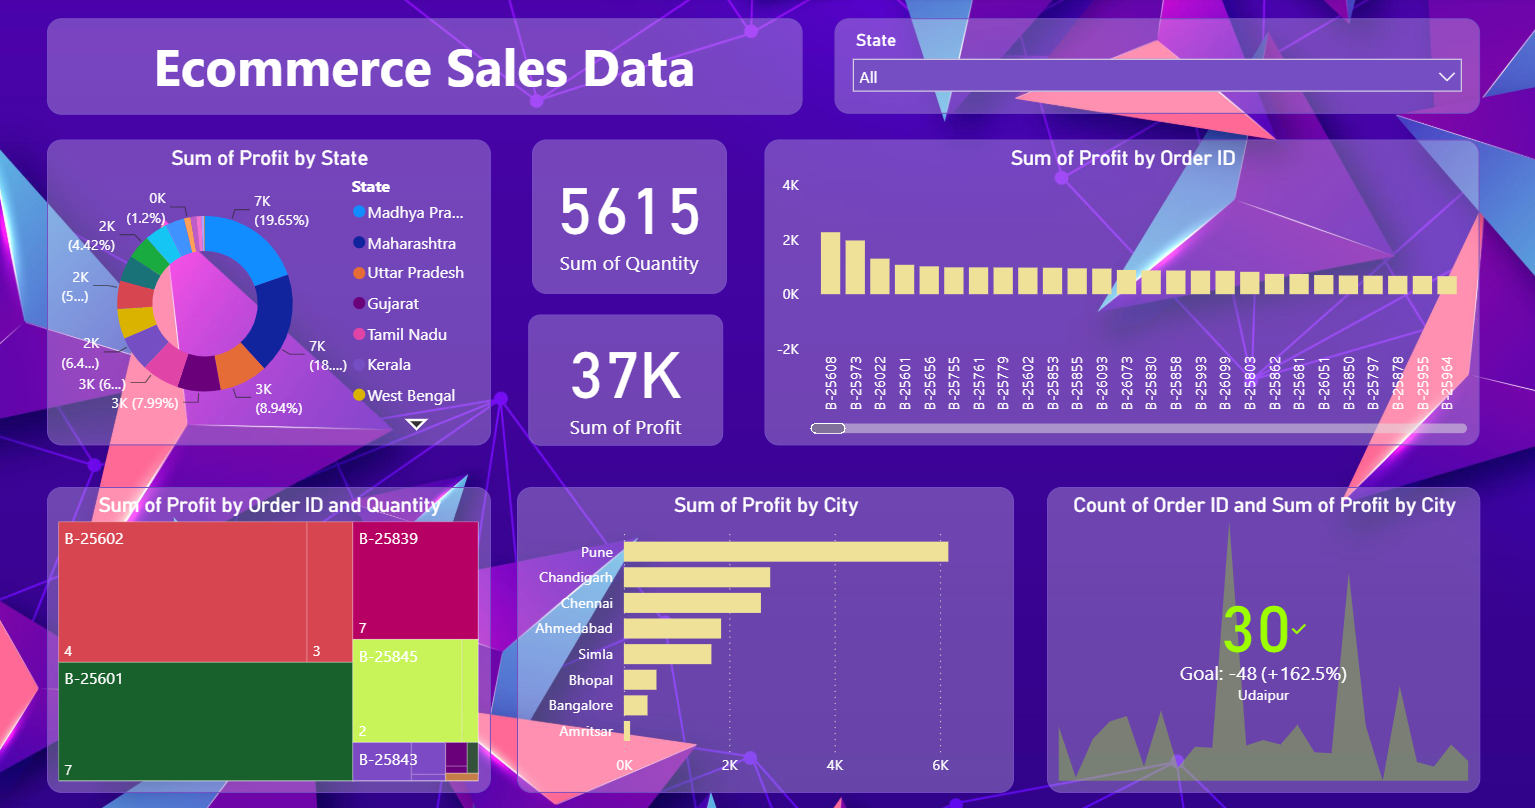

This screenshot's page, from the dashboard's own definition file:
{"tool":"powerbi","page":{"name":"Page 1","canvas":[1280,720],"ordinal":0},"visuals":[{"type":"textbox","box":[41,18.1,626.1,79.6],"z":0},{"type":"columnChart","fields":{"Category":["Sheet1.Order ID"],"Y":["Sum(Sheet1 (2).Profit)"]},"box":[636.7,118,592.8,253.9],"z":1000},{"type":"kpi","fields":{"TrendLine":["Sheet1.City"],"Indicator":["CountNonNull(Sheet1 (2).Order ID)"],"Goal":["Sum(Sheet1 (2).Profit)"]},"box":[870,406.2,359.5,253.9],"z":2000},{"type":"donutChart","fields":{"Category":["Sheet1.State"],"Y":["Sum(Sheet1 (2).Profit)"]},"box":[41.2,118,367.8,253.9],"z":3000},{"type":"barChart","fields":{"Category":["Sheet1.City"],"Y":["Sum(Sheet1 (2).Profit)"]},"box":[430.9,406.2,411.7,253.9],"z":4000},{"type":"pieChart","fields":{"Category":["Sheet1.Order ID"],"Y":["Sum(Sheet1 (2).Profit)"],"Series":["Sheet1 (2).Quantity"]},"box":[41.2,406.2,367.8,253.9],"z":5000},{"type":"slicer","fields":{"Values":["Sheet1.State"]},"box":[694.3,17.8,535.2,79.6],"z":6000},{"type":"card","fields":{"Values":["Sum(Sheet1 (2).Quantity)"]},"box":[443.2,118,161.9,127.6],"z":7000},{"type":"card","fields":{"Values":["Sum(Sheet1 (2).Profit)"]},"box":[440.5,263.5,161.9,108.4],"z":8000}]}

Visuals, with their boxes on the page's 1280x720 design canvas (x1, y1, x2, y2). These are canvas units, not pixel positions in the 1535x808 screenshot, which may show the page scaled, cropped or inside an application window:
textbox: 41/18/667/98
columnChart - Sheet1.Order ID x Sum(Sheet1 (2).Profit): 637/118/1230/372
kpi - Sheet1.City x CountNonNull(Sheet1 (2).Order ID): 870/406/1230/660
donutChart - Sheet1.State x Sum(Sheet1 (2).Profit): 41/118/409/372
barChart - Sheet1.City x Sum(Sheet1 (2).Profit): 431/406/843/660
pieChart - Sheet1.Order ID x Sum(Sheet1 (2).Profit): 41/406/409/660
slicer - Sheet1.State: 694/18/1230/97
card - Sum(Sheet1 (2).Quantity): 443/118/605/246
card - Sum(Sheet1 (2).Profit): 440/264/602/372
